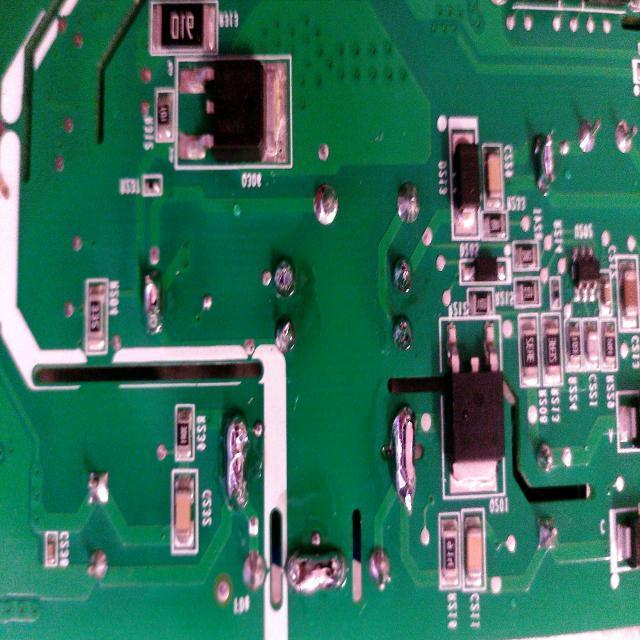Soldering shorted: (280, 540, 350, 600), (390, 394, 421, 521), (222, 412, 252, 514), (530, 128, 558, 202), (137, 267, 166, 333)
